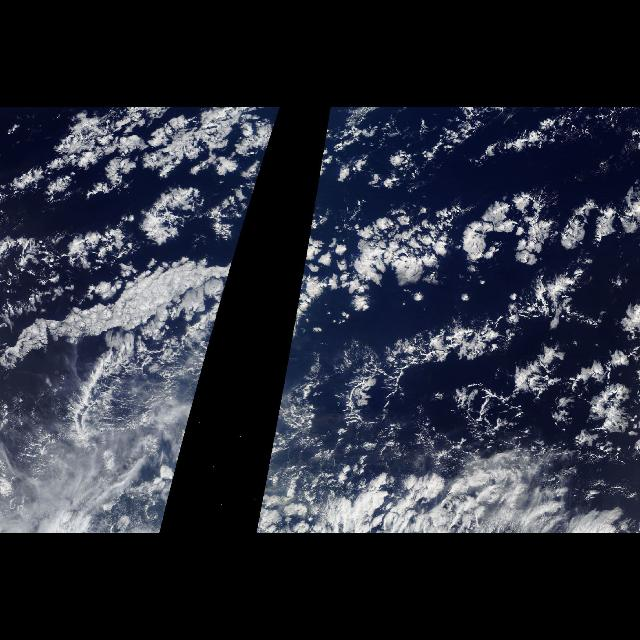Flower: (284, 112, 640, 374), (1, 112, 280, 374)
